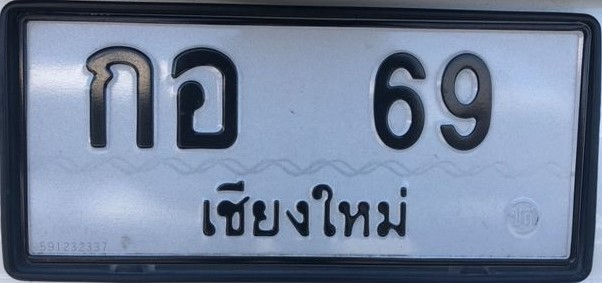txt01: (82, 44, 158, 152)
txt38: (168, 44, 241, 152)
